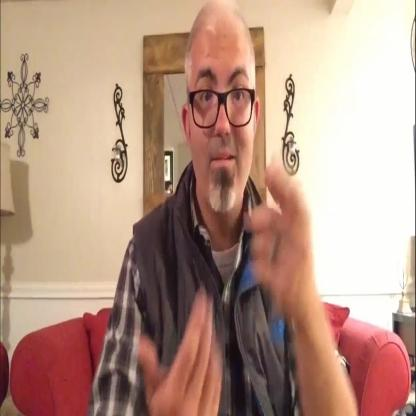HowAreYou: (134, 160, 312, 416)
